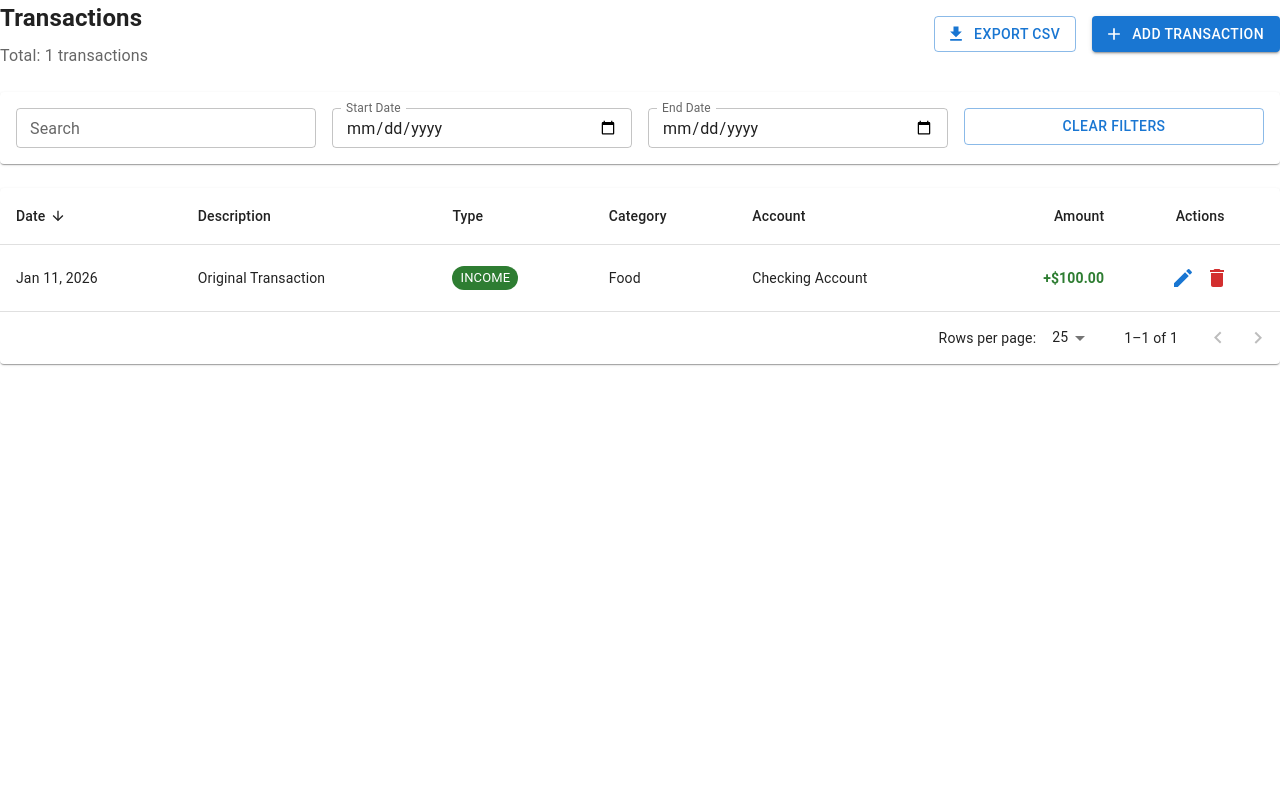
Test case: Transactions › Edit Transaction Dialog › should open edit dialog with transaction data
Expected: the text "Original Transaction" is shown, [182,244,436,312]
Click the 4th button at (1183, 278), box [1166,261,1200,295]
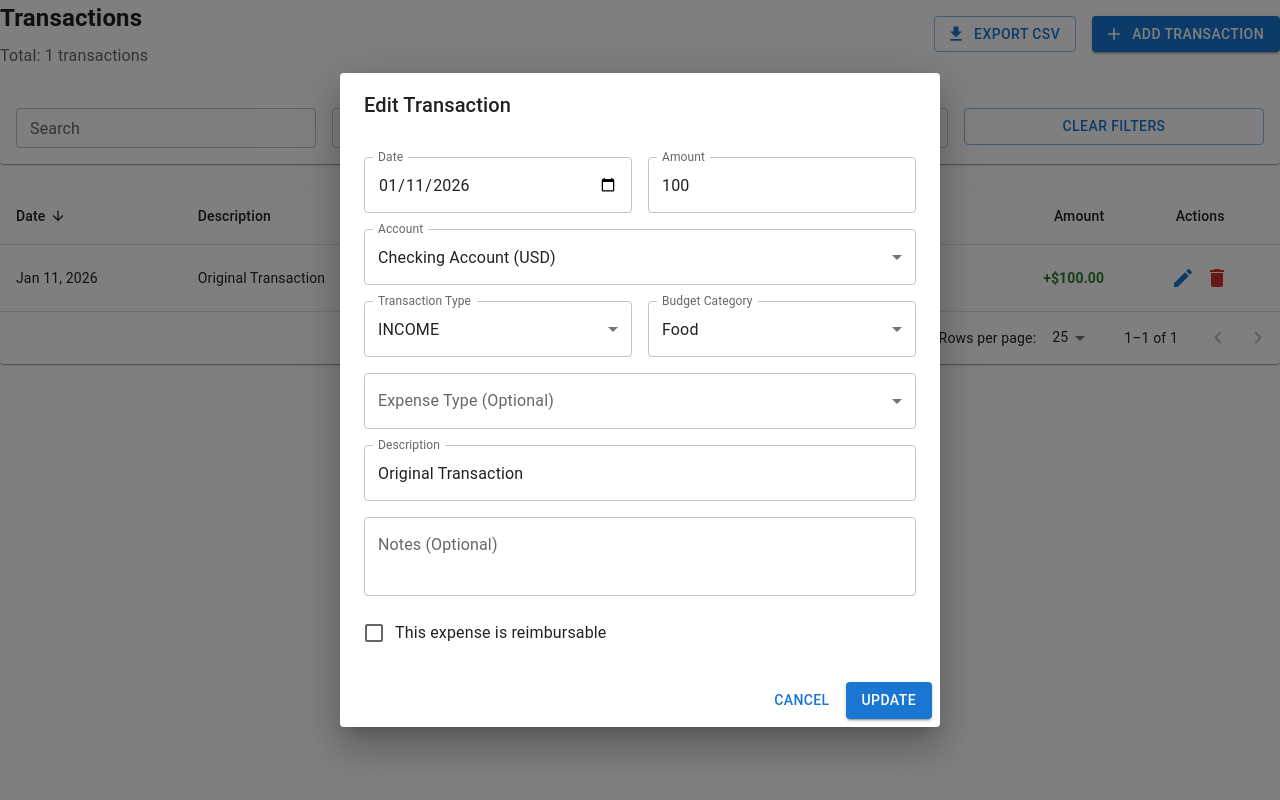
Now the heading "Edit Transaction" is shown, box [364,93,511,117]
Now the field showing "Original Transaction" is shown, box [364,445,916,501]
